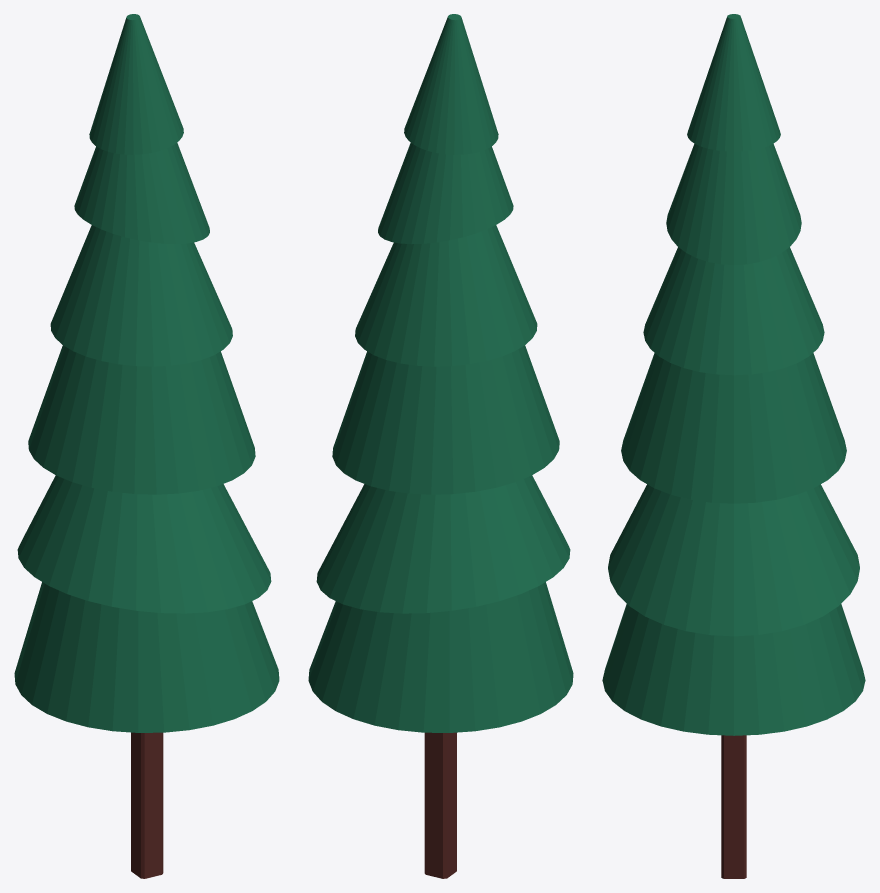
Rendered from Arvore1 PRONTO.fbx.
3 renders of one model, left to right at view 1: azimuth 30°, elevation 25°; view 2: azimuth 150°, elevation 25°; view 3: azimuth 270°, elevation 25°, orthographic.
Parts seen in each view (by area): view 1: Circle; view 2: Circle; view 3: Circle.
Boxes of the visible parts, x1,y1,x2,y2 form: Circle: [14, 14, 279, 878]; Circle: [308, 14, 573, 878]; Circle: [602, 14, 865, 878].
Bounding box in the file's own units: 270 × 965 × 270.
